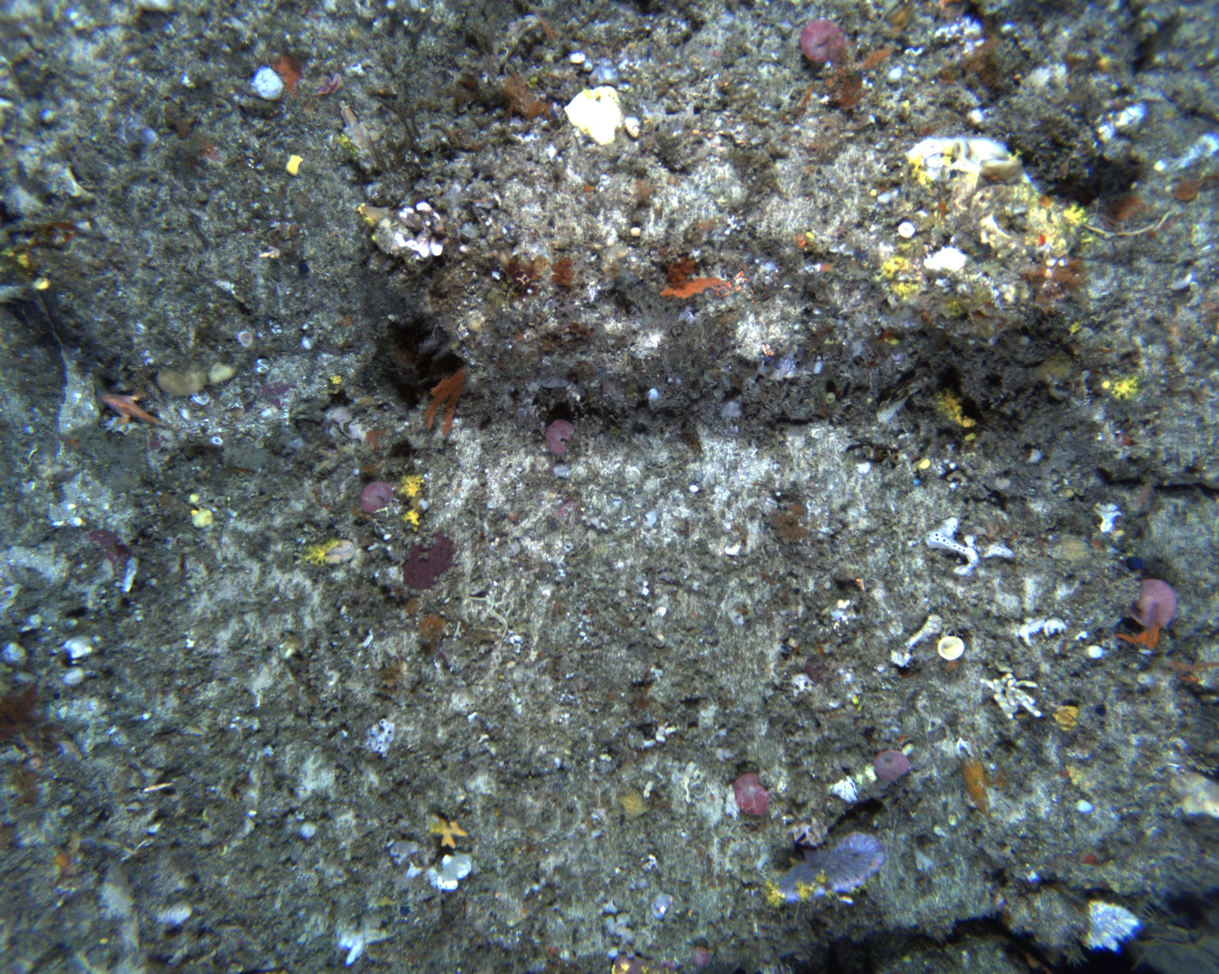Brachionichthyidae: (97, 386, 177, 435)
